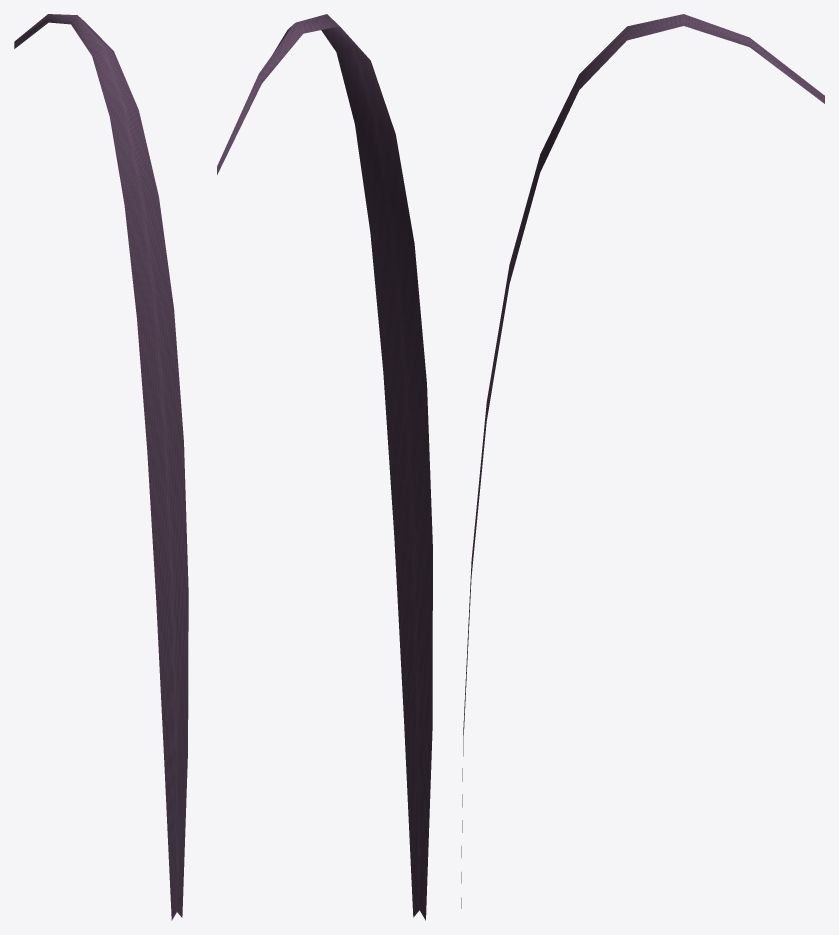
Rendered from single_blade_00.glb.
The picture shows the model from 3 angles, left to right: view 1: azimuth 30°, elevation 25°; view 2: azimuth 150°, elevation 25°; view 3: azimuth 270°, elevation 25°; orthographic projection. The views are drawn at different scales.
Parts seen in each view (by area): view 1: export; view 2: export; view 3: export.
Boxes of the visible parts, <box> form: export: <box>14,14,188,920</box>; export: <box>217,14,432,920</box>; export: <box>461,14,824,908</box>.
Size of the model in its own units: 0.0475 by 1.01 by 0.3676.
Materials: 1 (1 with a texture image).
